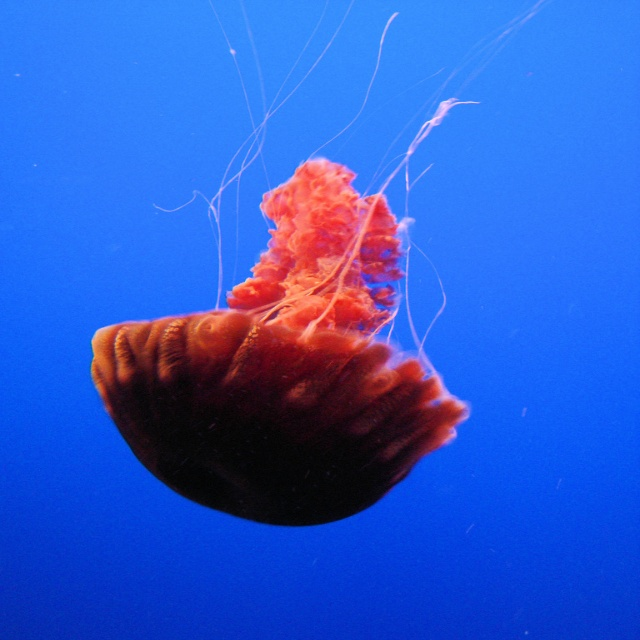Jellyfish: (87, 0, 549, 525)
